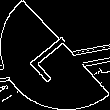L_NE: (24, 27, 86, 83)
